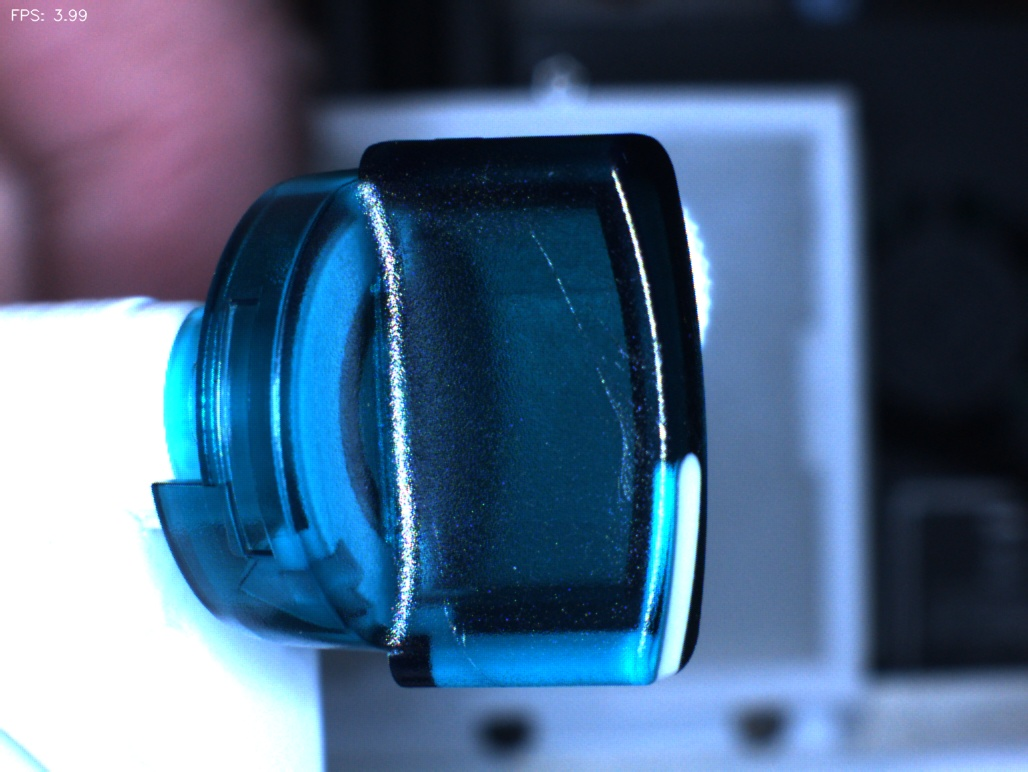Givrage: (521, 234, 650, 476)
